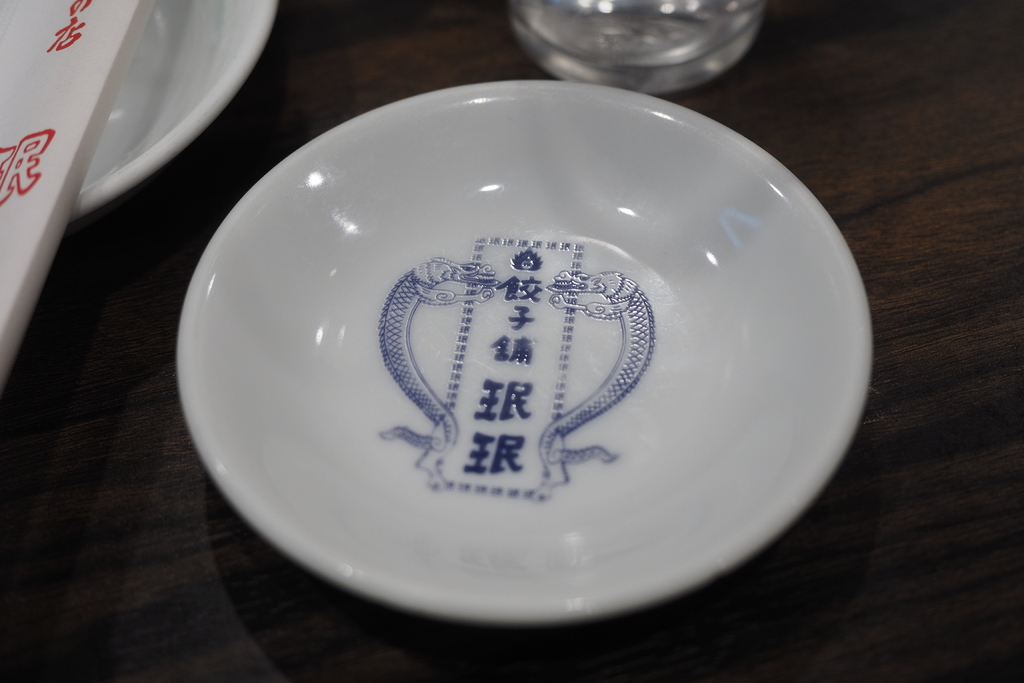plate: (176, 79, 873, 627)
